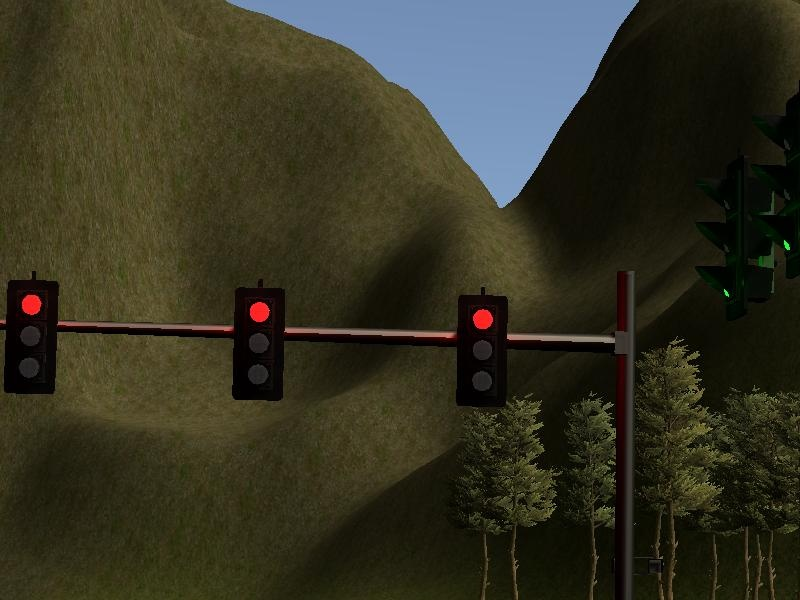Red: (227, 283, 290, 402), (3, 275, 62, 397), (453, 292, 511, 413)
